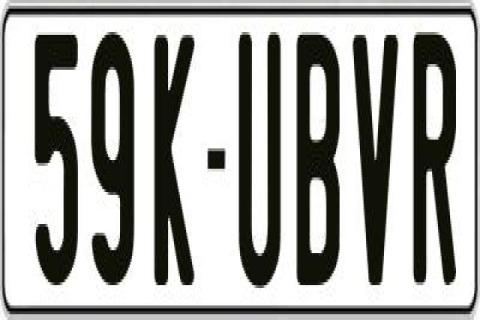0: (34, 32, 84, 300), (92, 32, 138, 294)
B: (296, 29, 346, 297)
K: (155, 32, 201, 296)
R: (414, 24, 456, 294)
U: (238, 26, 284, 294)
V: (351, 35, 401, 303)
